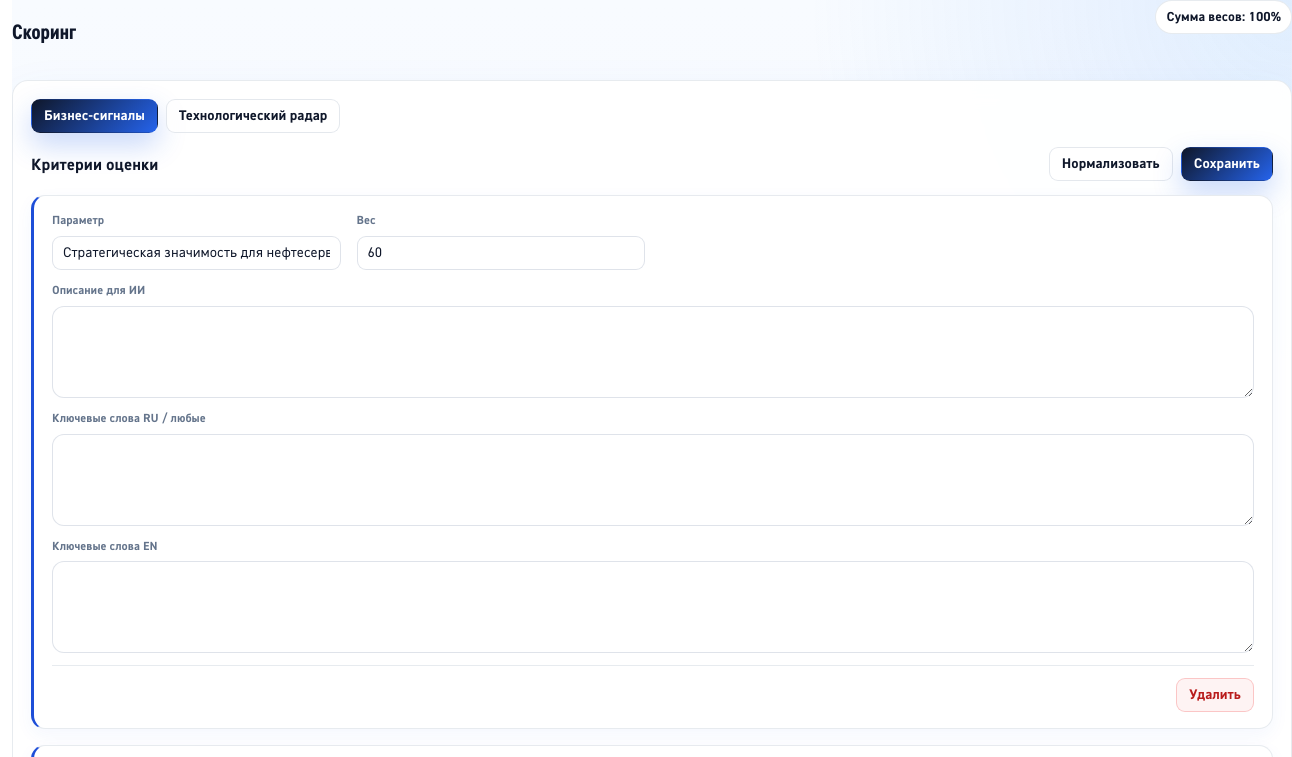
экран «Скоринг»: вкладки наборов критериев › уход с вкладки с несохранёнными правками — только после подтверждения
The image size is (1292, 757).
Expected: the 1st field showing "Стратегическая значимость для нефтесервиса" is shown, [52,236,340,270]
Replace the text in the 1st number field labelled "Вес" with "50" at (501, 253), box [356,236,645,270]
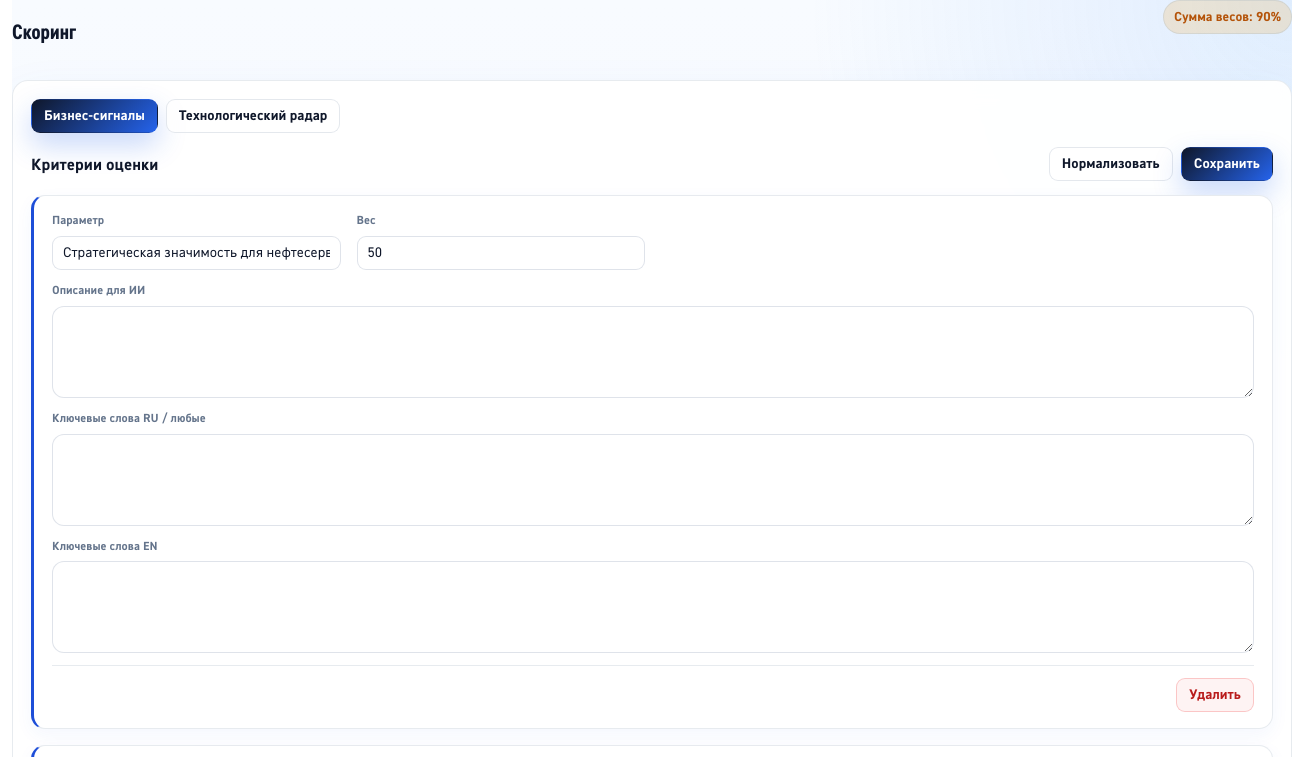
Click the tab "Технологический радар" at (253, 116), box [166,99,340,133]
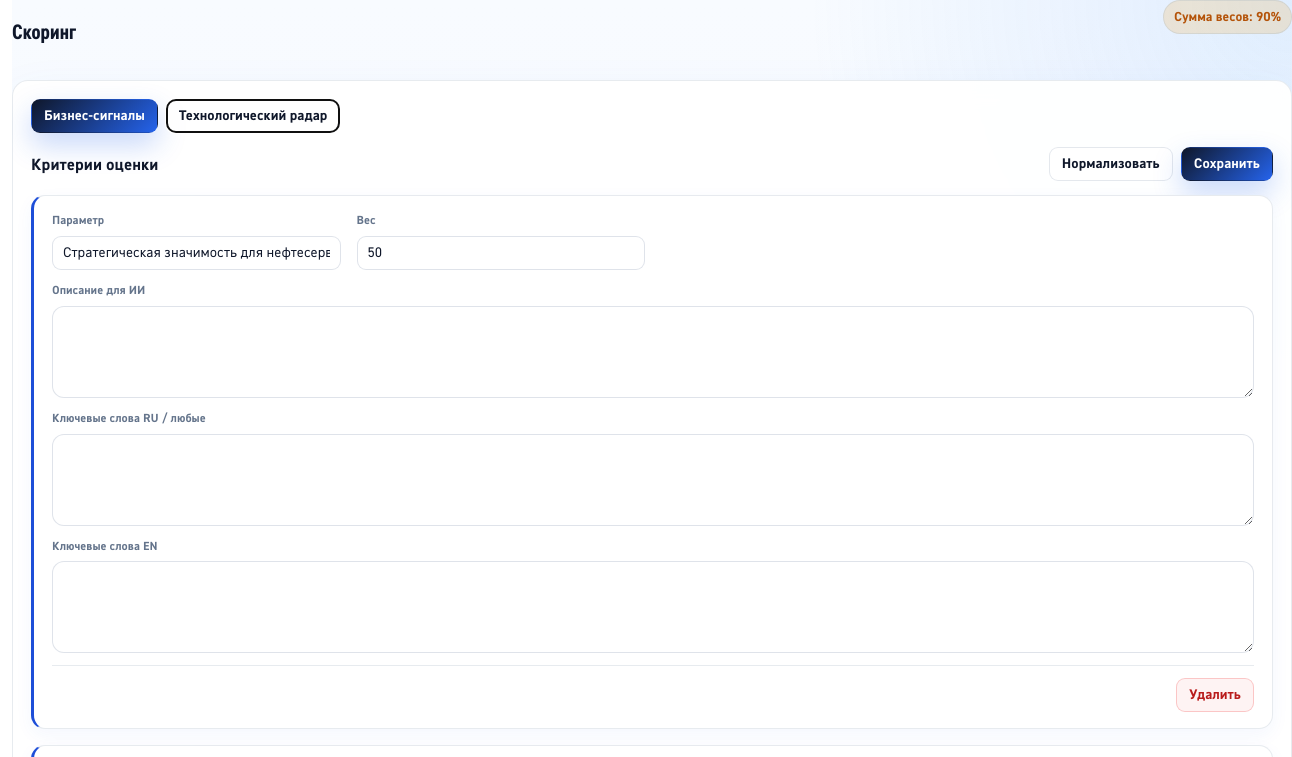
Click the tab "Технологический радар" at (253, 116), box [166,99,340,133]
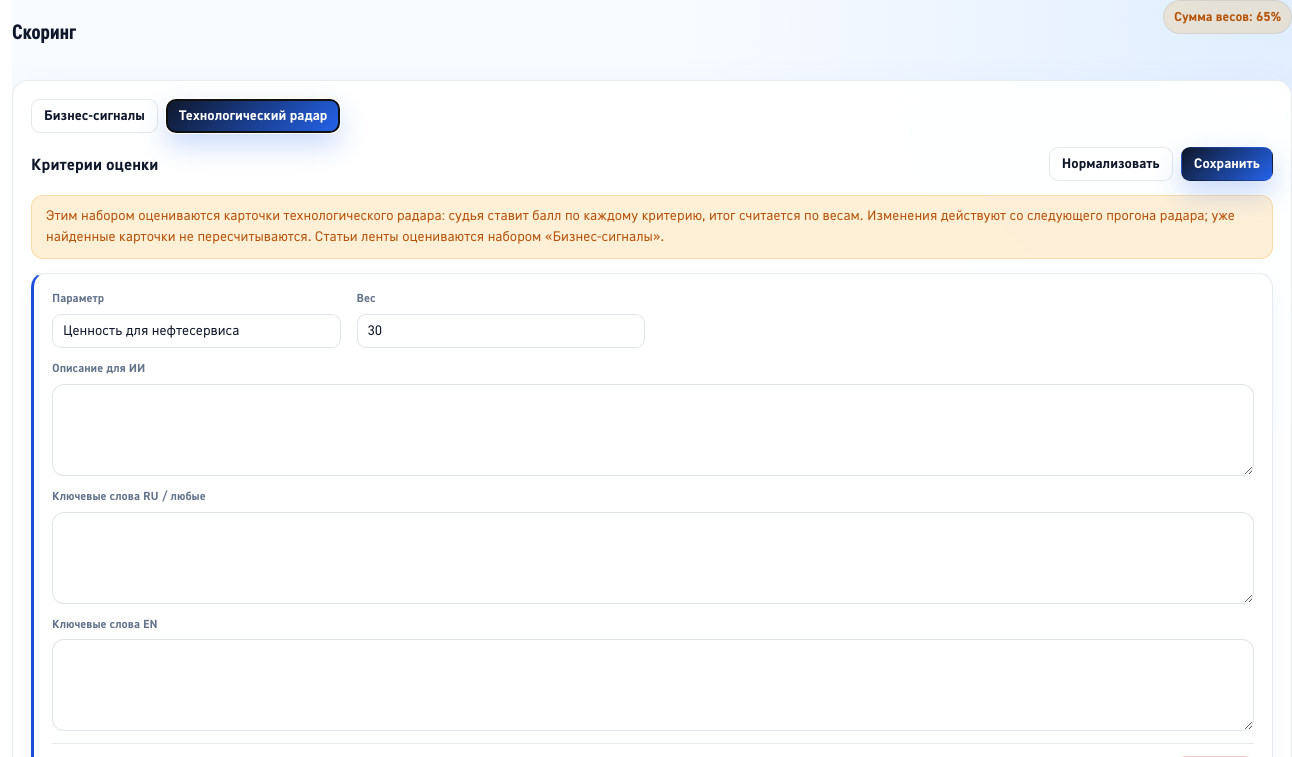
Result: the field showing "Ценность для нефтесервиса" is shown at [52,314,340,348]
